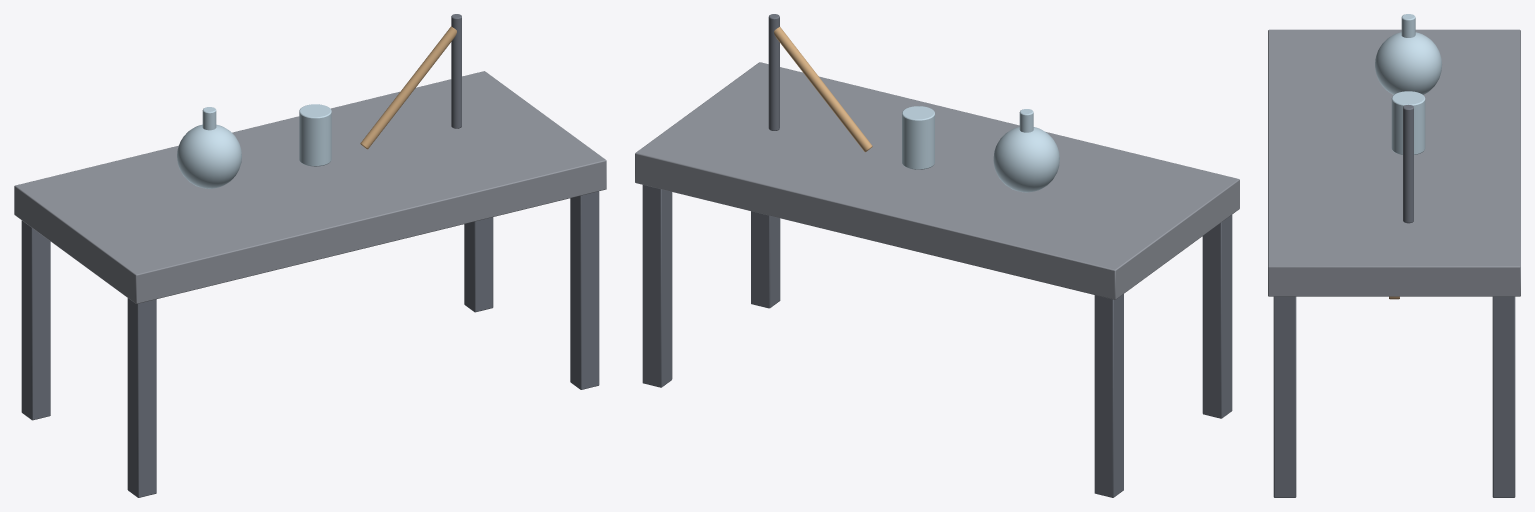
The model's file is SM_ST_CHEM_BENCH.fbx.
The picture shows the model from 3 angles, left to right: view 1: azimuth 30°, elevation 25°; view 2: azimuth 150°, elevation 25°; view 3: azimuth 270°, elevation 25°; orthographic projection. The views are drawn at different scales.
Parts seen in each view (by area): view 1: SM_ST_CHEM_BENCH; view 2: SM_ST_CHEM_BENCH; view 3: SM_ST_CHEM_BENCH.
Part boxes in pixels (x1=…): SM_ST_CHEM_BENCH: x1=14, y1=14, x2=606, y2=497; SM_ST_CHEM_BENCH: x1=635, y1=14, x2=1239, y2=497; SM_ST_CHEM_BENCH: x1=1268, y1=14, x2=1520, y2=497.
Size of what is drawn, in the model's own units: 2 by 1.38 by 0.9.
